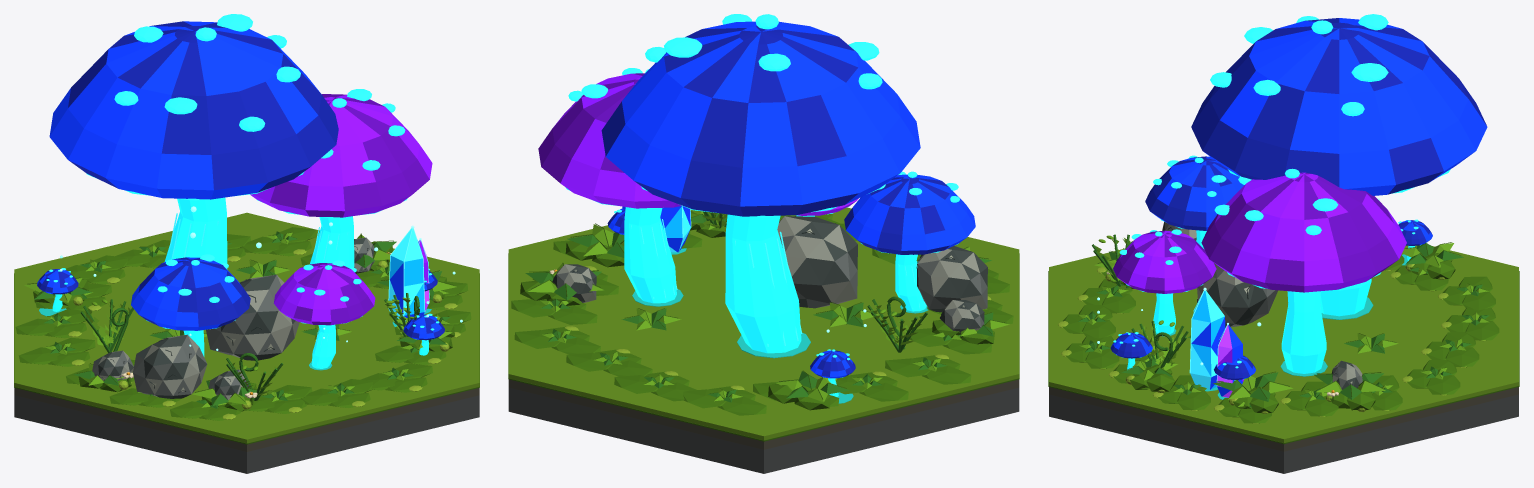
File: hex_glowing_mushrooms.glb
The picture shows the model from 3 angles, left to right: view 1: azimuth 30°, elevation 25°; view 2: azimuth 150°, elevation 25°; view 3: azimuth 270°, elevation 25°; orthographic projection. The views are drawn at different scales.
Visible parts, largest first — view 1: Broad faceted mushroom cap.001, Standard hex meadow top.001, Broad faceted mushroom cap.003, Standard hex stone foundation.001, Broad faceted mushroom cap.004, Broad faceted mushroom cap.005, Angular mossy forest boulder.001, Standard hex earth layer.001, Angular mossy forest boulder.002, Curving luminous mushroom stem.001, Faceted magical crystal.001, Curving luminous mushroom stem.003 (+12 smaller); view 2: Broad faceted mushroom cap.001, Standard hex meadow top.001, Standard hex stone foundation.001, Curving luminous mushroom stem.001, Broad faceted mushroom cap.003, Broad faceted mushroom cap.004, Angular mossy forest boulder.001, Standard hex earth layer.001, Curving luminous mushroom stem.003, Angular mossy forest boulder.002, Curving luminous mushroom stem.004, Angular mossy forest boulder.004 (+17 smaller); view 3: Broad faceted mushroom cap.001, Standard hex meadow top.001, Broad faceted mushroom cap.003, Standard hex stone foundation.001, Broad faceted mushroom cap.005, Broad faceted mushroom cap.004, Standard hex earth layer.001, Curving luminous mushroom stem.003, Angular mossy forest boulder.001, Faceted magical crystal.001, Curving luminous mushroom stem.001, Faceted magical crystal.003 (+14 smaller).
Boxes of the visible parts, x1,y1,x2,y2 form: Broad faceted mushroom cap.001: [49, 21, 338, 199]; Standard hex meadow top.001: [14, 212, 479, 443]; Broad faceted mushroom cap.003: [250, 94, 432, 217]; Standard hex stone foundation.001: [14, 395, 479, 473]; Broad faceted mushroom cap.004: [131, 257, 250, 330]; Broad faceted mushroom cap.005: [273, 263, 375, 325]; Angular mossy forest boulder.001: [206, 274, 299, 360]; Standard hex earth layer.001: [14, 388, 479, 451]; Angular mossy forest boulder.002: [133, 334, 207, 398]; Curving luminous mushroom stem.001: [164, 197, 227, 269]; Faceted magical crystal.001: [388, 229, 424, 325]; Curving luminous mushroom stem.003: [309, 216, 354, 268]; Broad faceted mushroom cap.001: [601, 21, 920, 216]; Standard hex meadow top.001: [508, 207, 1019, 440]; Standard hex stone foundation.001: [508, 387, 1019, 473]; Curving luminous mushroom stem.001: [725, 214, 801, 353]; Broad faceted mushroom cap.003: [538, 73, 681, 208]; Broad faceted mushroom cap.004: [844, 174, 975, 254]; Angular mossy forest boulder.001: [777, 216, 857, 308]; Standard hex earth layer.001: [508, 379, 1019, 449]; Curving luminous mushroom stem.003: [624, 207, 676, 303]; Angular mossy forest boulder.002: [916, 246, 987, 312]; Curving luminous mushroom stem.004: [895, 254, 926, 311]; Angular mossy forest boulder.004: [552, 264, 596, 302]; Broad faceted mushroom cap.001: [1191, 18, 1487, 195]; Standard hex meadow top.001: [1049, 245, 1518, 442]; Broad faceted mushroom cap.003: [1201, 172, 1406, 292]; Standard hex stone foundation.001: [1049, 394, 1518, 473]; Broad faceted mushroom cap.005: [1113, 230, 1216, 293]; Broad faceted mushroom cap.004: [1145, 156, 1244, 230]; Standard hex earth layer.001: [1049, 387, 1518, 451]; Curving luminous mushroom stem.003: [1281, 291, 1326, 373]; Angular mossy forest boulder.001: [1197, 263, 1278, 327]; Faceted magical crystal.001: [1190, 291, 1225, 389]; Curving luminous mushroom stem.001: [1320, 278, 1371, 316]; Faceted magical crystal.003: [1217, 325, 1243, 397].
Size of the model in its own units: 5.11 by 3.39 by 4.42.
